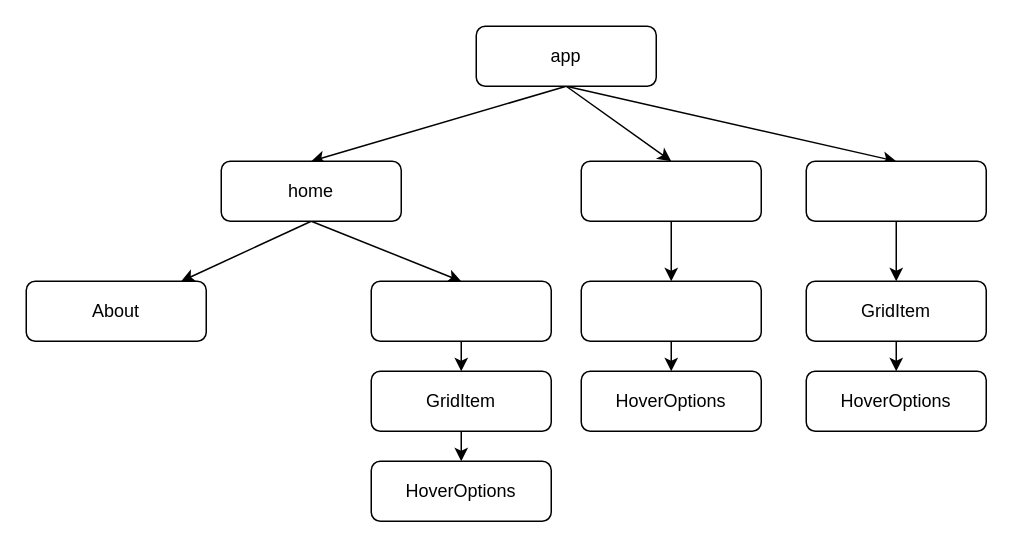
Some shapes in this 1013 by 548 pixel diagram are drawn without their labels. The shapes that lost their labels are listed below. From the top down, each one's centre as x and y in pixels, then its label:
At [670,190]: "list".
At [895,190]: "grid".
At [460,310]: "RandomItem".
At [670,310]: "ListItem".
